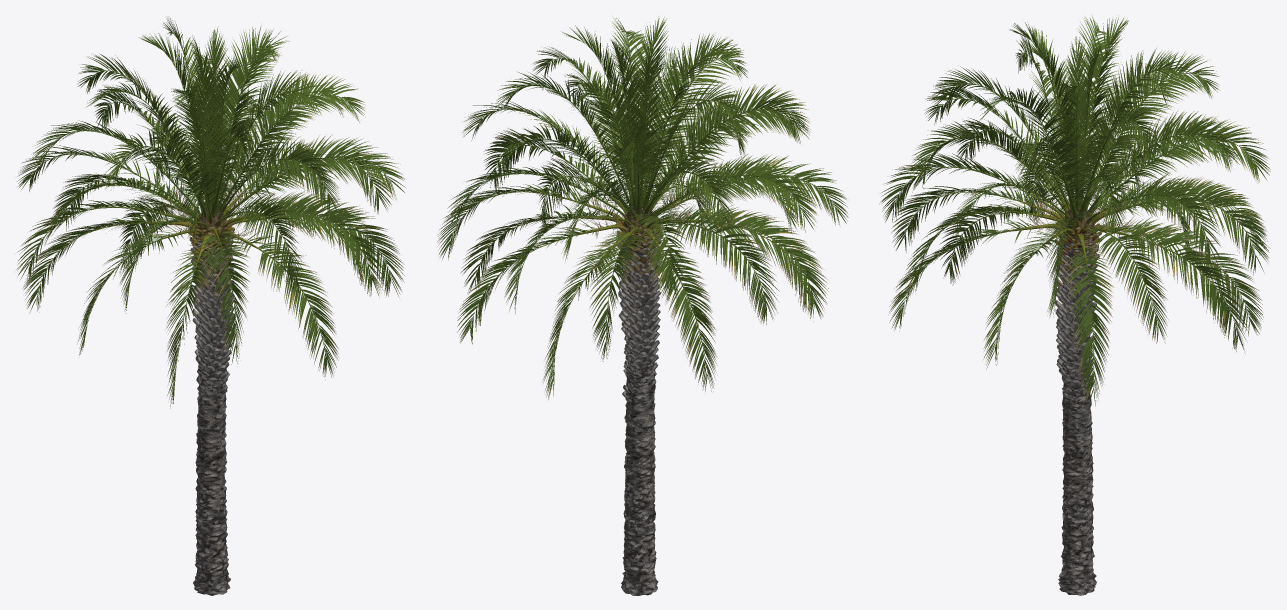
Rendered from palmera.glb.
3 renders of one model, left to right at view 1: azimuth 30°, elevation 25°; view 2: azimuth 150°, elevation 25°; view 3: azimuth 270°, elevation 25°, orthographic.
Parts seen in each view (by area): view 1: Phoenix_canariensis_HD_Phoenix leaflet average_0, Phoenix_canariensis_HD_Phoenix leaflet young_0, Phoenix_canariensis_HD_Phoenix trunk_0, Phoenix_canariensis_HD_Phoenix leaflet average 02_0, Phoenix_canariensis_HD_Phoenix leaf stk_0, Phoenix_canariensis_HD_Phoenix dead stk 01_0, Phoenix_canariensis_HD_Phoenix leaf stk 04_0, Phoenix_canariensis_HD_Phoenix leaf stk 03_0, Phoenix_canariensis_HD_Phoenix lf cut 04_0, Phoenix_canariensis_HD_Phoenix crownshaft RT_0, Phoenix_canariensis_HD_Phoenix leaf stk 02_0; view 2: Phoenix_canariensis_HD_Phoenix leaflet average_0, Phoenix_canariensis_HD_Phoenix leaflet young_0, Phoenix_canariensis_HD_Phoenix trunk_0, Phoenix_canariensis_HD_Phoenix leaf stk_0, Phoenix_canariensis_HD_Phoenix leaflet average 02_0, Phoenix_canariensis_HD_Phoenix dead stk 01_0, Phoenix_canariensis_HD_Phoenix leaf stk 03_0, Phoenix_canariensis_HD_Phoenix leaf stk 04_0, Phoenix_canariensis_HD_Phoenix lf cut 04_0, Phoenix_canariensis_HD_Phoenix dead stk 02_0, Phoenix_canariensis_HD_Phoenix crownshaft RT_0; view 3: Phoenix_canariensis_HD_Phoenix leaflet average_0, Phoenix_canariensis_HD_Phoenix leaflet young_0, Phoenix_canariensis_HD_Phoenix trunk_0, Phoenix_canariensis_HD_Phoenix leaflet average 02_0, Phoenix_canariensis_HD_Phoenix leaf stk_0, Phoenix_canariensis_HD_Phoenix dead stk 01_0, Phoenix_canariensis_HD_Phoenix leaf stk 03_0, Phoenix_canariensis_HD_Phoenix leaf stk 04_0, Phoenix_canariensis_HD_Phoenix lf cut 04_0, Phoenix_canariensis_HD_Phoenix crownshaft RT_0.
Boxes of the visible parts, bbox=[...] form: Phoenix_canariensis_HD_Phoenix leaflet average_0: bbox=[17, 60, 405, 404]; Phoenix_canariensis_HD_Phoenix leaflet young_0: bbox=[30, 18, 365, 245]; Phoenix_canariensis_HD_Phoenix trunk_0: bbox=[193, 257, 230, 595]; Phoenix_canariensis_HD_Phoenix leaflet average 02_0: bbox=[16, 91, 403, 405]; Phoenix_canariensis_HD_Phoenix leaf stk_0: bbox=[33, 34, 345, 218]; Phoenix_canariensis_HD_Phoenix dead stk 01_0: bbox=[193, 280, 233, 449]; Phoenix_canariensis_HD_Phoenix leaf stk 04_0: bbox=[29, 137, 390, 292]; Phoenix_canariensis_HD_Phoenix leaf stk 03_0: bbox=[77, 161, 391, 351]; Phoenix_canariensis_HD_Phoenix lf cut 04_0: bbox=[189, 228, 234, 447]; Phoenix_canariensis_HD_Phoenix crownshaft RT_0: bbox=[193, 209, 229, 257]; Phoenix_canariensis_HD_Phoenix leaf stk 02_0: bbox=[37, 206, 212, 352]; Phoenix_canariensis_HD_Phoenix leaflet average_0: bbox=[437, 61, 848, 398]; Phoenix_canariensis_HD_Phoenix leaflet young_0: bbox=[462, 16, 816, 261]; Phoenix_canariensis_HD_Phoenix trunk_0: bbox=[621, 256, 658, 595]; Phoenix_canariensis_HD_Phoenix leaf stk_0: bbox=[460, 37, 787, 269]; Phoenix_canariensis_HD_Phoenix leaflet average 02_0: bbox=[448, 81, 833, 399]; Phoenix_canariensis_HD_Phoenix dead stk 01_0: bbox=[619, 291, 660, 439]; Phoenix_canariensis_HD_Phoenix leaf stk 03_0: bbox=[463, 176, 813, 328]; Phoenix_canariensis_HD_Phoenix leaf stk 04_0: bbox=[500, 68, 828, 305]; Phoenix_canariensis_HD_Phoenix lf cut 04_0: bbox=[619, 229, 660, 431]; Phoenix_canariensis_HD_Phoenix dead stk 02_0: bbox=[619, 261, 660, 302]; Phoenix_canariensis_HD_Phoenix crownshaft RT_0: bbox=[622, 206, 657, 256]; Phoenix_canariensis_HD_Phoenix leaflet average_0: bbox=[879, 63, 1270, 406]; Phoenix_canariensis_HD_Phoenix leaflet young_0: bbox=[909, 16, 1270, 238]; Phoenix_canariensis_HD_Phoenix trunk_0: bbox=[1058, 256, 1096, 595]; Phoenix_canariensis_HD_Phoenix leaflet average 02_0: bbox=[891, 117, 1265, 400]; Phoenix_canariensis_HD_Phoenix leaf stk_0: bbox=[946, 32, 1256, 246]; Phoenix_canariensis_HD_Phoenix dead stk 01_0: bbox=[1055, 286, 1095, 441]; Phoenix_canariensis_HD_Phoenix leaf stk 03_0: bbox=[901, 174, 1239, 384]; Phoenix_canariensis_HD_Phoenix leaf stk 04_0: bbox=[903, 98, 1251, 270]; Phoenix_canariensis_HD_Phoenix lf cut 04_0: bbox=[1055, 237, 1099, 442]; Phoenix_canariensis_HD_Phoenix crownshaft RT_0: bbox=[1061, 209, 1096, 257].
Size of the model in its own units: 7.61 by 11.79 by 7.62.
Materials: 20 (20 with a texture image).
